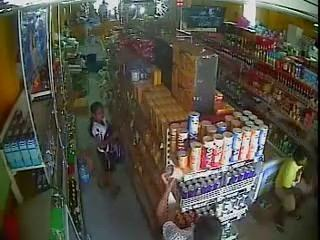shoplifting: (105, 122, 128, 164)
